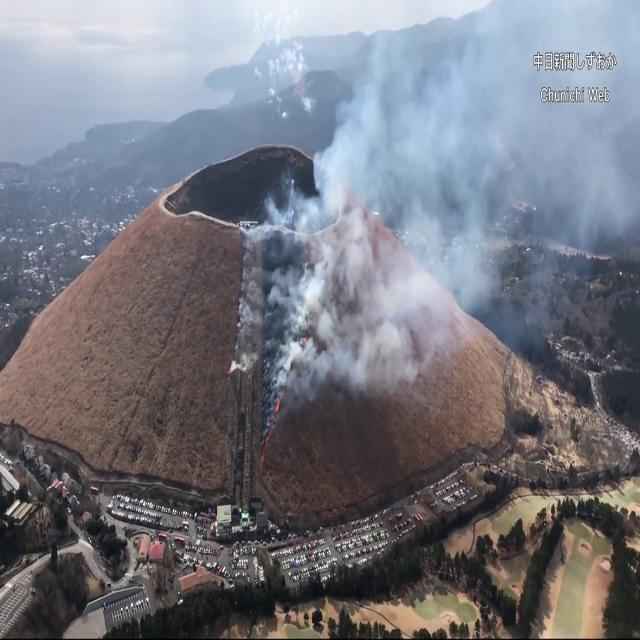Smoke: (234, 0, 638, 401)
